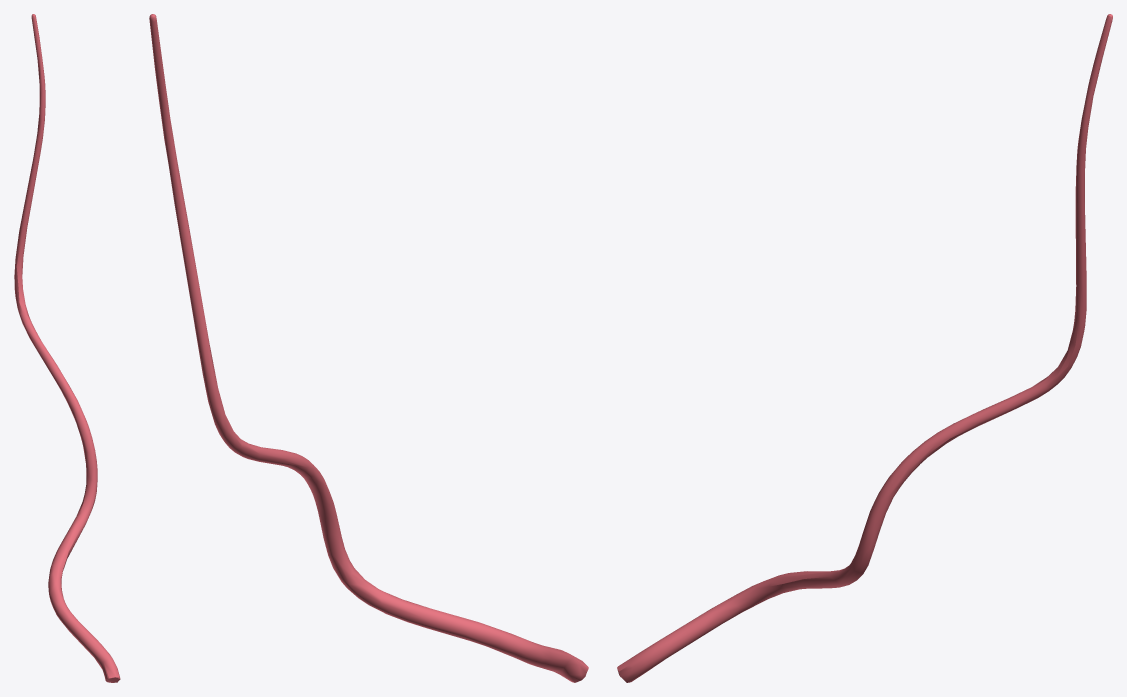
The model's file is fma10660_fj2278.glb.
The picture shows the model from 3 angles, left to right: view 1: azimuth 30°, elevation 25°; view 2: azimuth 150°, elevation 25°; view 3: azimuth 270°, elevation 25°; orthographic projection. The views are drawn at different scales.
Visible parts, largest first — view 1: FMA10660_FJ2278; view 2: FMA10660_FJ2278; view 3: FMA10660_FJ2278.
Boxes of the visible parts, x1=… form: FMA10660_FJ2278: x1=14, y1=14, x2=120, y2=682; FMA10660_FJ2278: x1=149, y1=14, x2=588, y2=682; FMA10660_FJ2278: x1=617, y1=14, x2=1112, y2=682.
Size of the model in its own units: 0.0163 by 0.0711 by 0.0437.
